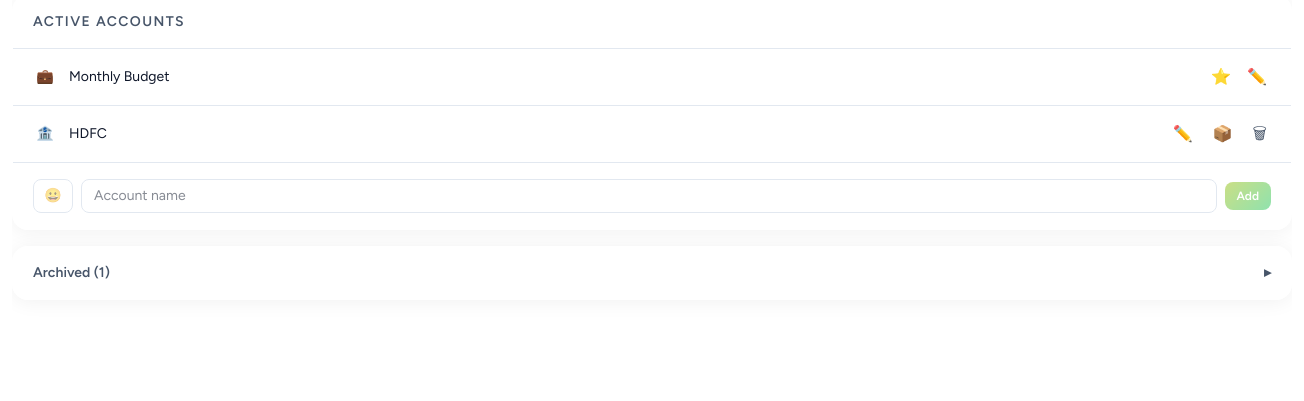
Test: AccountsTab — archive & restore › shows error when restoring an account whose name conflicts with an active account
Click the button "Archived (1) ▸" at (66, 272), box [13,247,1291,299]
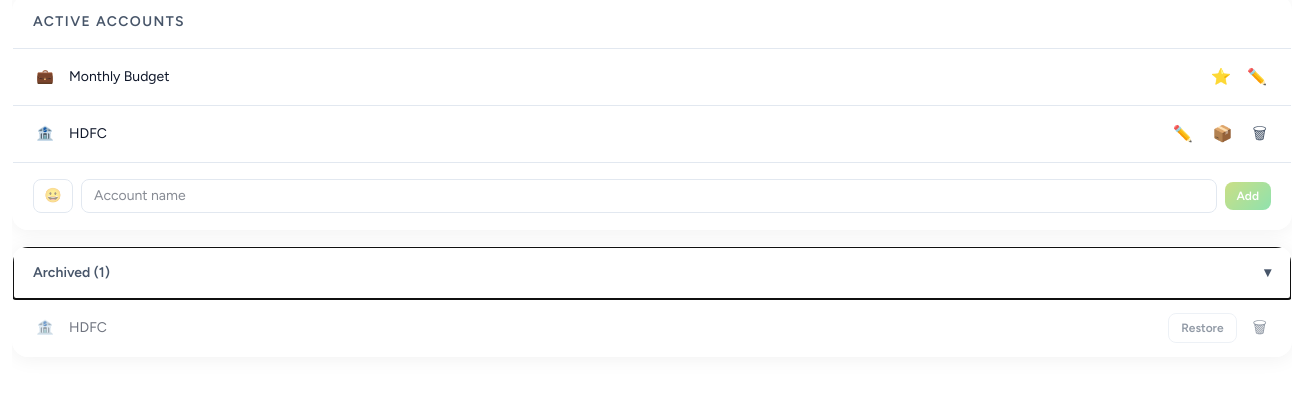
Click the button with aria-label "Restore HDFC" at (1202, 328), box [1168,313,1236,343]
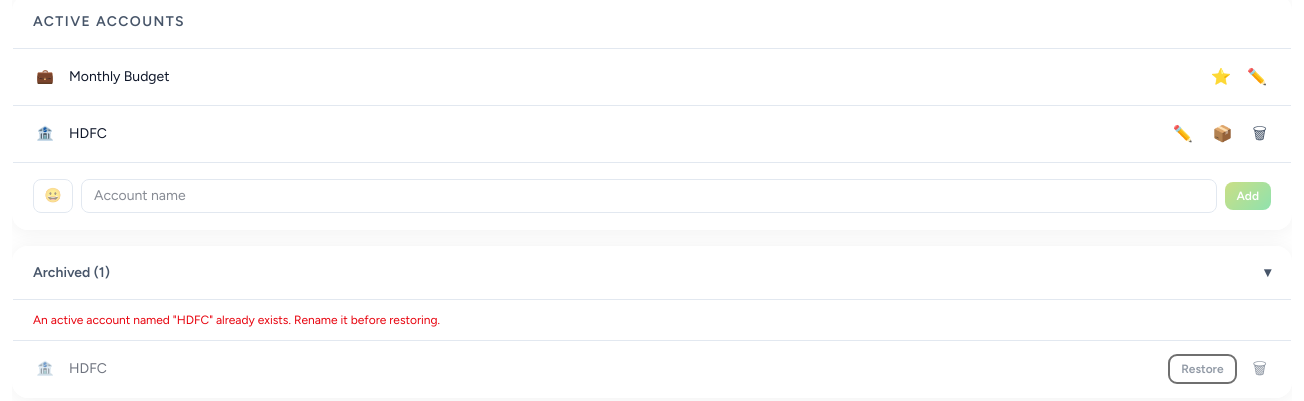
Expected: the text "already exists" is shown, [33,313,440,327]
